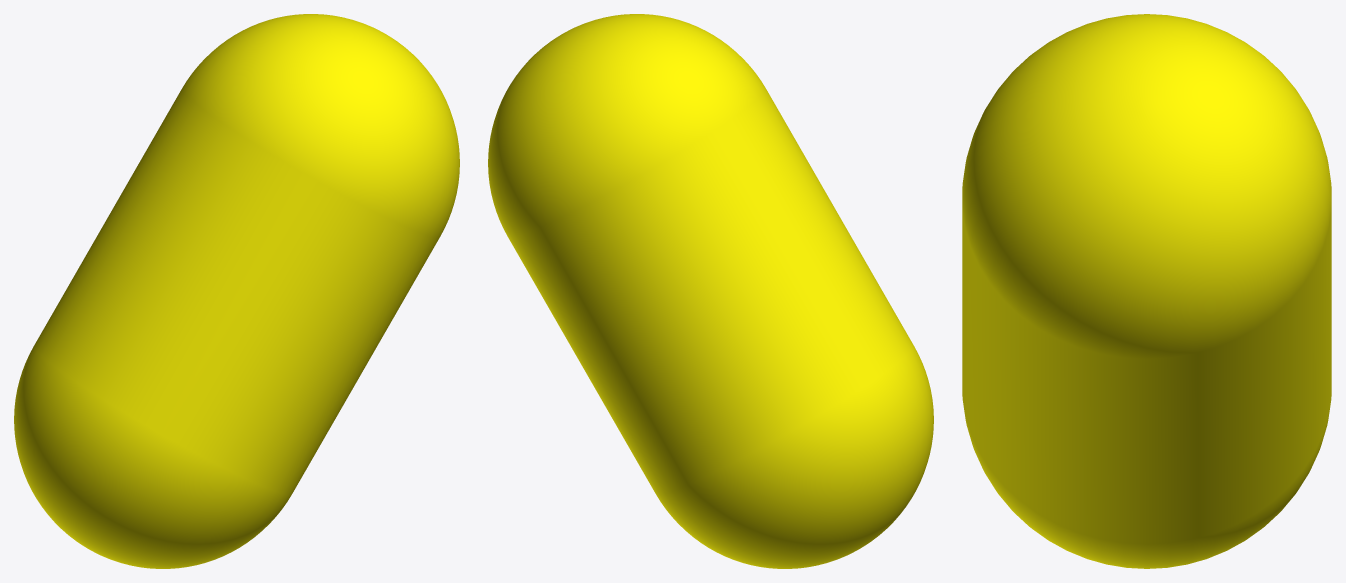
Rendered from bbulb.gltf.
3 views of the same model, side by side, from view 1: azimuth 30°, elevation 25°; view 2: azimuth 150°, elevation 25°; view 3: azimuth 270°, elevation 25° (orthographic). The views are drawn at different scales.
Parts seen in each view (by area): view 1: Capsule; view 2: Capsule; view 3: Capsule.
Boxes of the visible parts, x1,y1,x2,y2 form: Capsule: (14, 14, 459, 568); Capsule: (488, 14, 933, 568); Capsule: (962, 14, 1331, 568).
Bounding box in the file's own units: 0.186 × 0.215 × 0.118.
